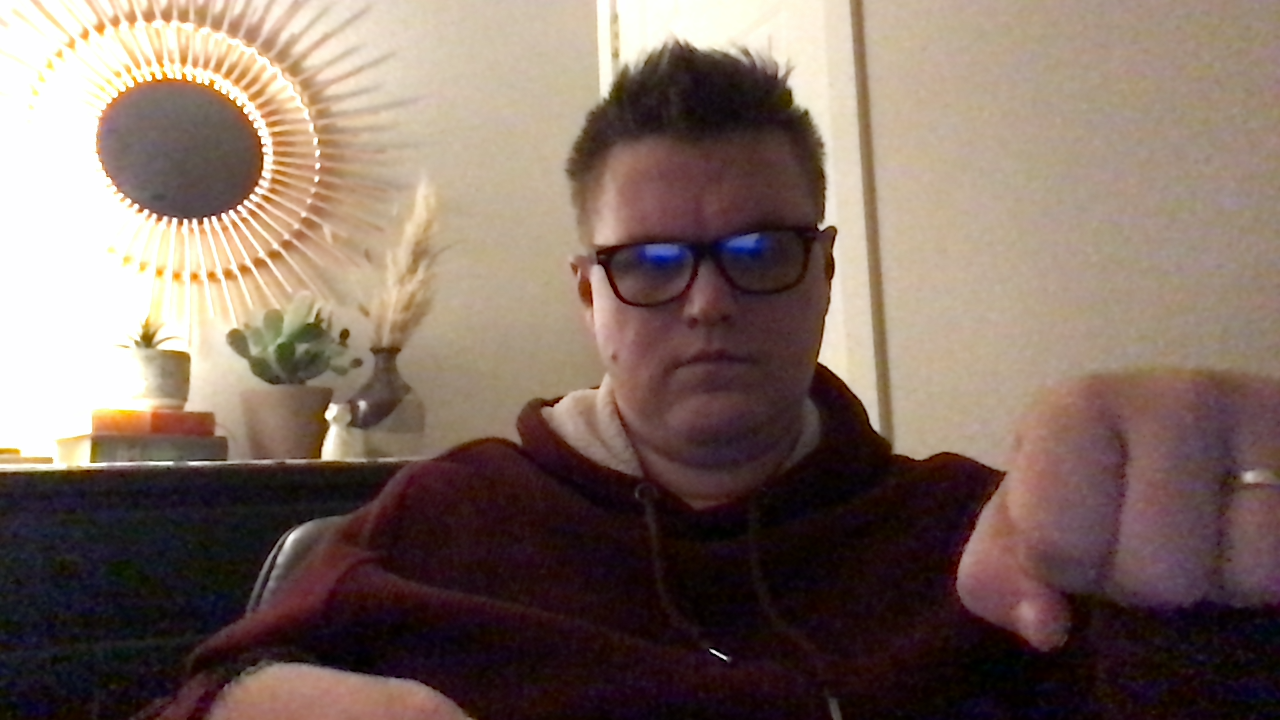yes: (950, 363, 1280, 660)
